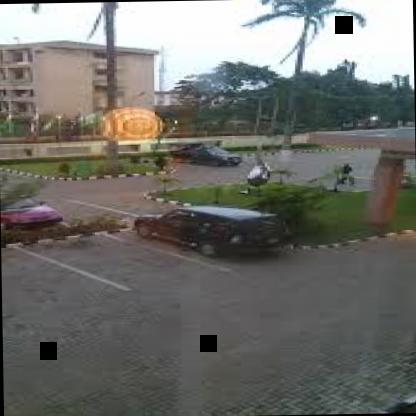car: (92, 188, 300, 282), (0, 182, 105, 254), (161, 127, 248, 173)
